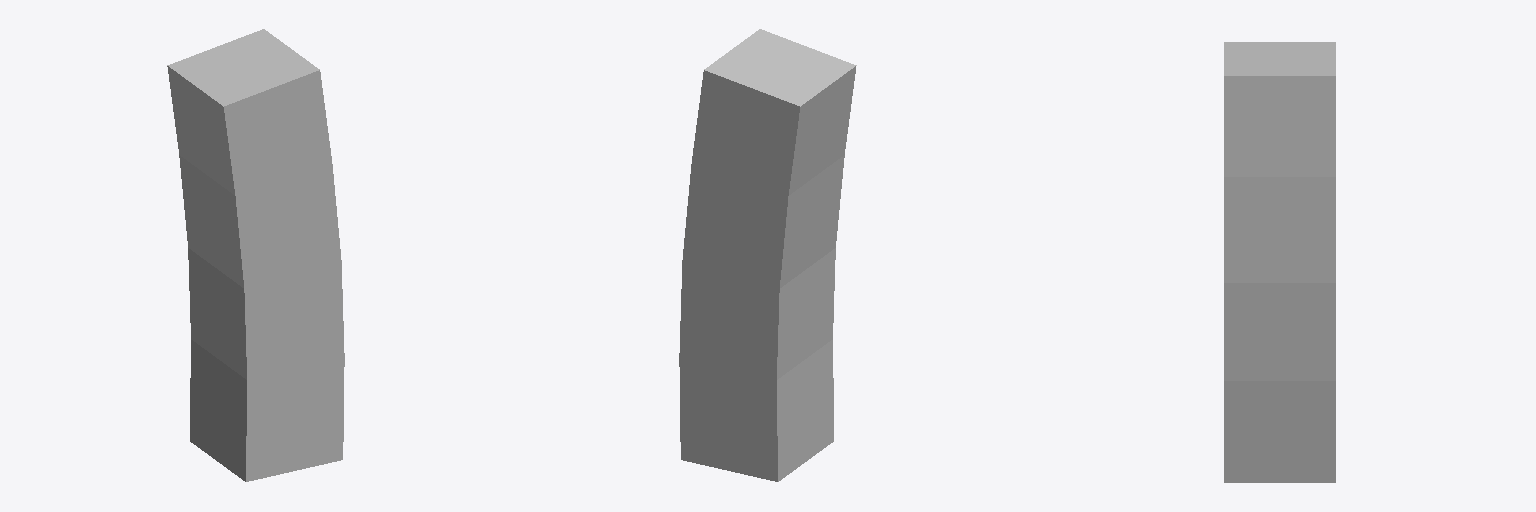
The model's file is Animation_000077.obj.
The picture shows the model from 3 angles: view 1: azimuth 30°, elevation 25°; view 2: azimuth 150°, elevation 25°; view 3: azimuth 270°, elevation 25°; orthographic projection.
Parts seen in each view (by area): view 1: Cube; view 2: Cube; view 3: Cube.
Boxes of the visible parts, <box> form: Cube: <box>167,29,344,481</box>; Cube: <box>679,29,856,481</box>; Cube: <box>1224,42,1335,482</box>.
Size of the model in its own units: 1.65 by 5.17 by 1.33.